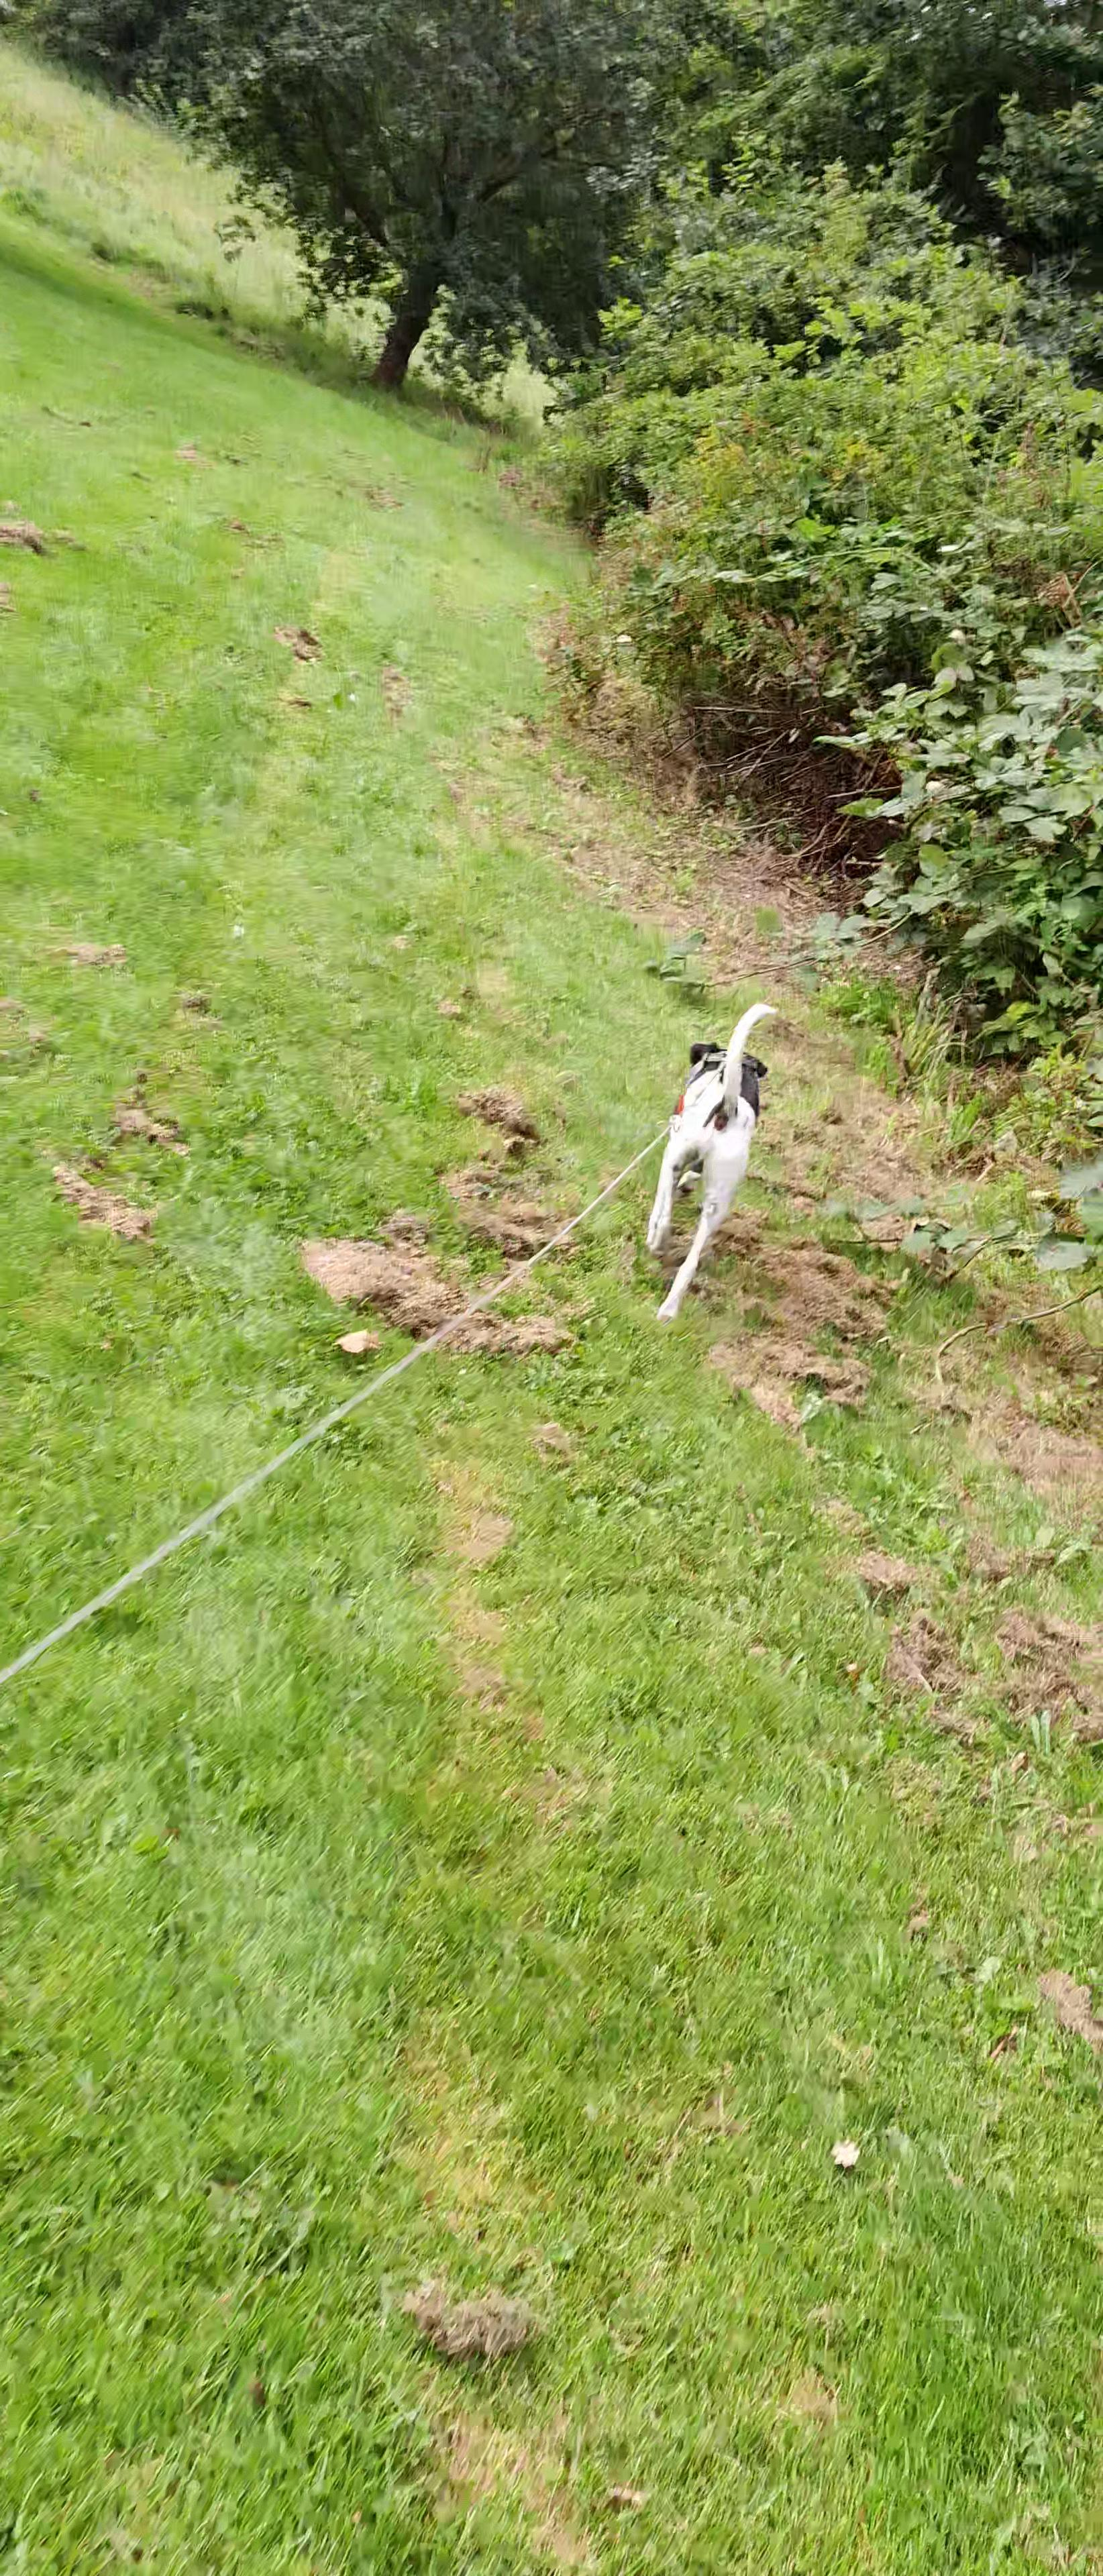Dog: (611, 976, 805, 1349)
